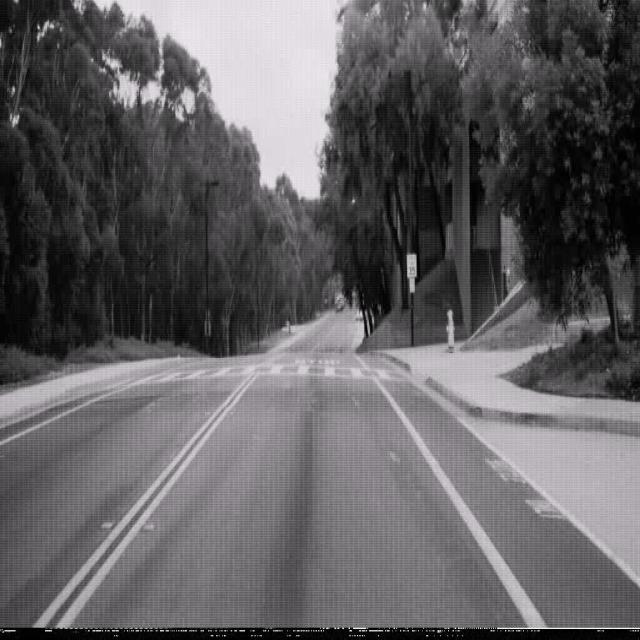speedLimit35: (406, 253, 417, 277)
